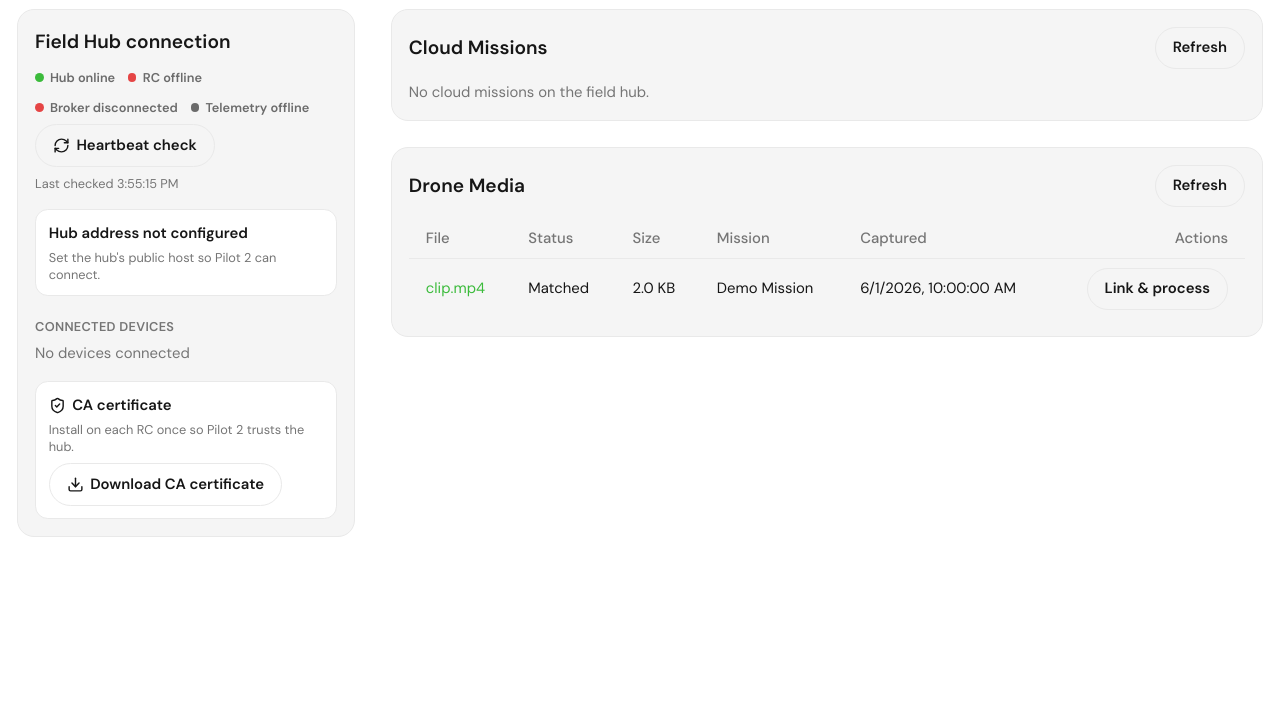
FieldOpsPage › links a video to an inspection and starts a measurement in order
The image size is (1280, 720).
// the row's mission is pre-selected, so inspections load on open
Click the button with test id "field-ops-link-toggle-f1" at (1157, 289), box [1086,268,1228,310]
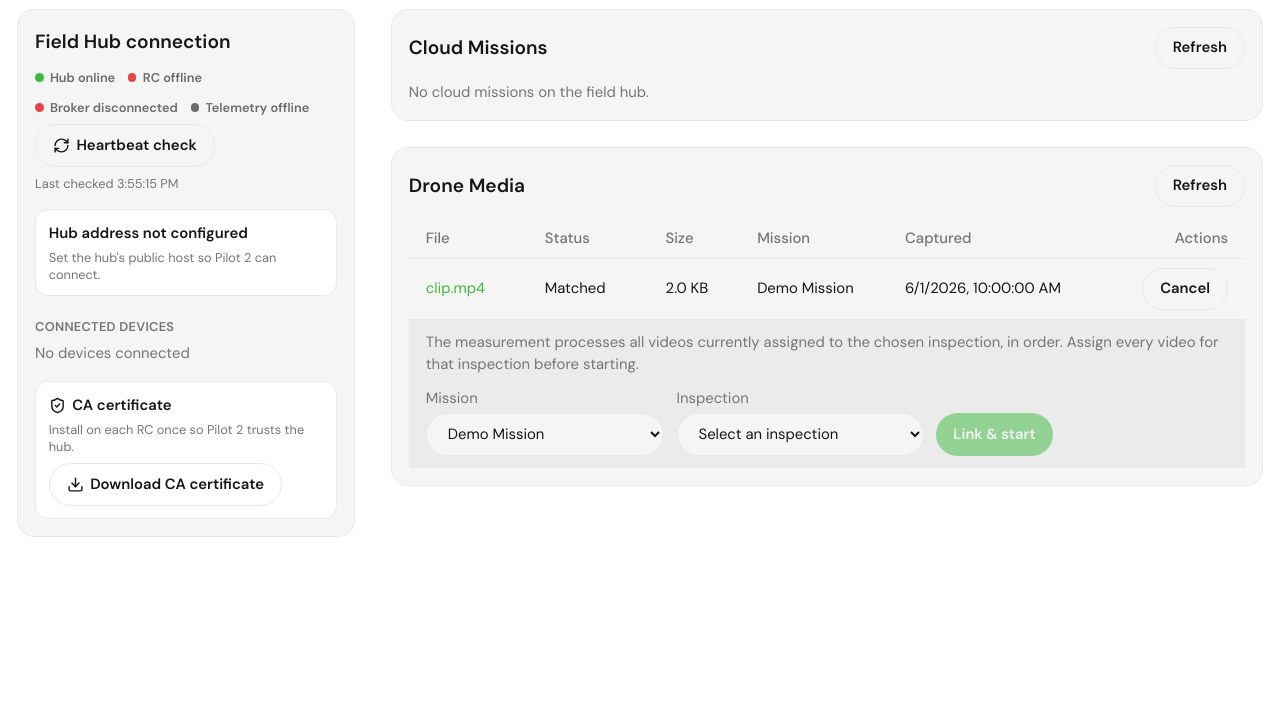
Select "Inspection 2 · Fly Over" in the dropdown with test id "field-ops-link-inspection-f1" at (800, 434), box [676,413,924,456]
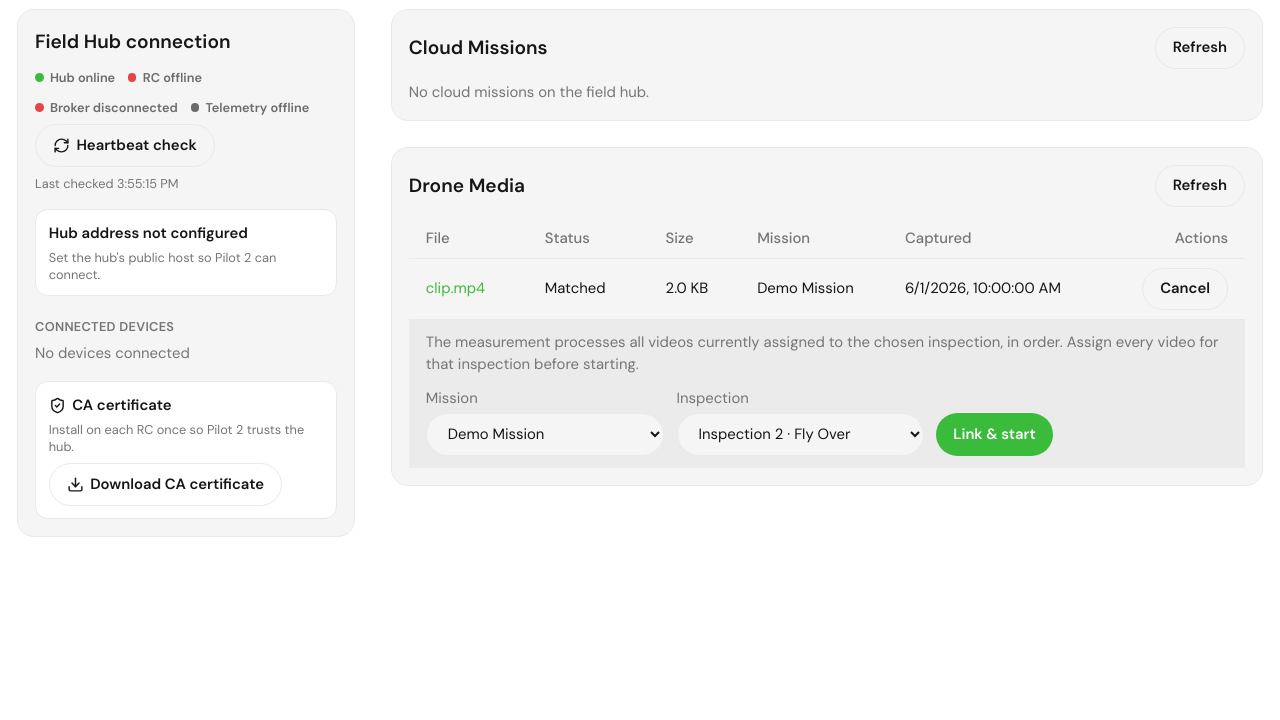
Click the button with test id "field-ops-link-confirm-f1" at (994, 434), box [936,413,1053,456]
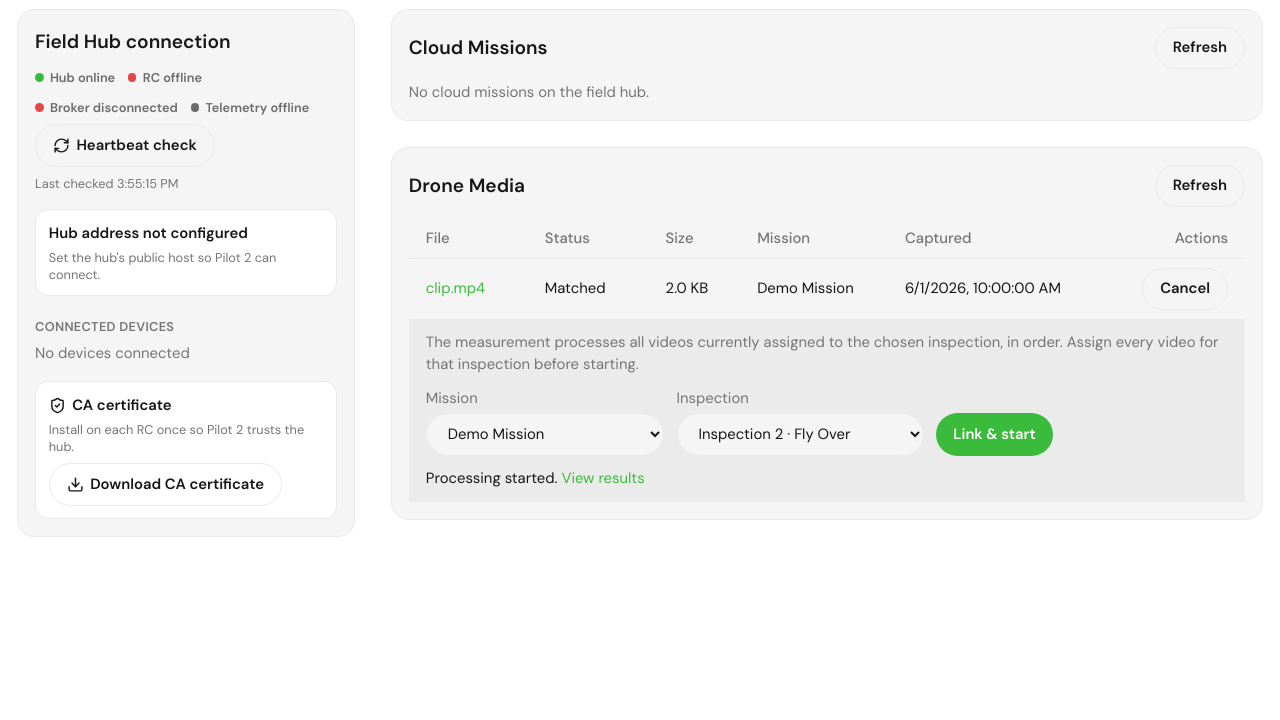
Expected: the element with test id "field-ops-link-success-f1" is shown, [426,468,645,488]
